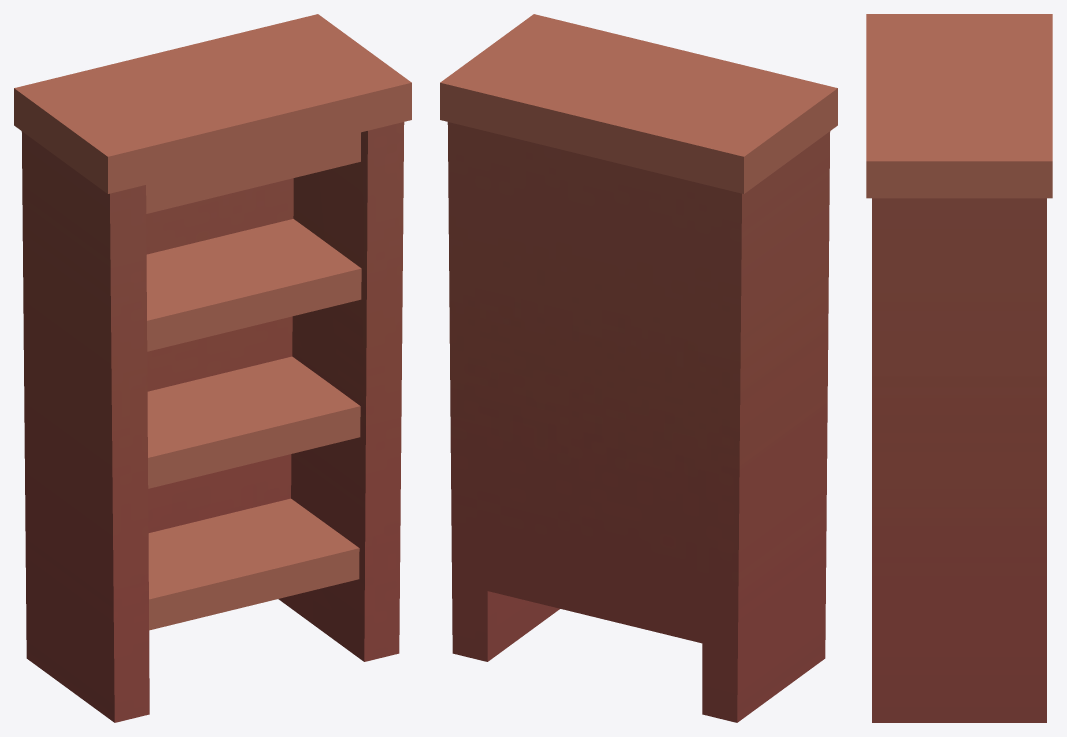
Rendered from SM_Shelf_Book_Lower_1_01.fbx.
3 views of the same model, side by side, from view 1: azimuth 30°, elevation 25°; view 2: azimuth 150°, elevation 25°; view 3: azimuth 270°, elevation 25° (orthographic).
Parts seen in each view (by area): view 1: SM_Shelf_Book_Lower_1_01; view 2: SM_Shelf_Book_Lower_1_01; view 3: SM_Shelf_Book_Lower_1_01.
Boxes of the visible parts, box(x1,y1,x2,y2) form: SM_Shelf_Book_Lower_1_01: box(14, 14, 411, 722); SM_Shelf_Book_Lower_1_01: box(440, 14, 837, 722); SM_Shelf_Book_Lower_1_01: box(866, 14, 1052, 722).
Bounding box in the file's own units: 124 × 222 × 66.26.
